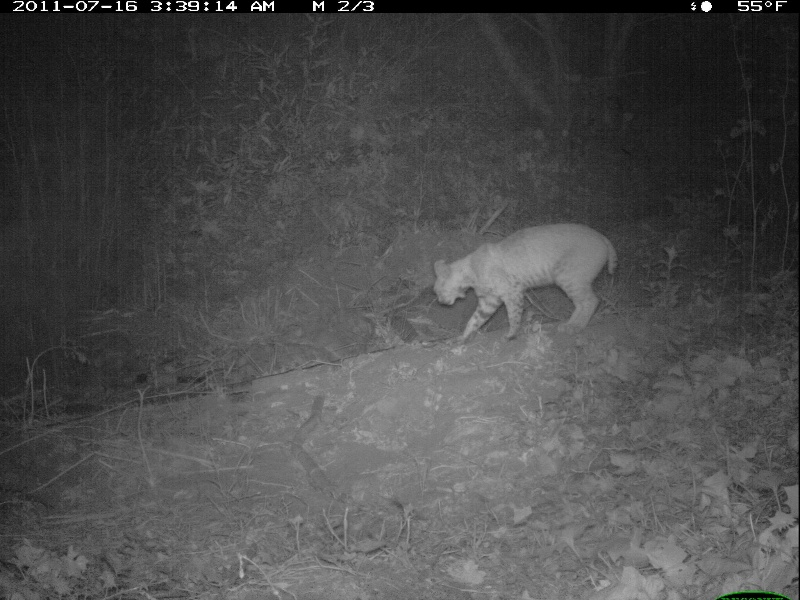cat: (421, 219, 623, 341)
